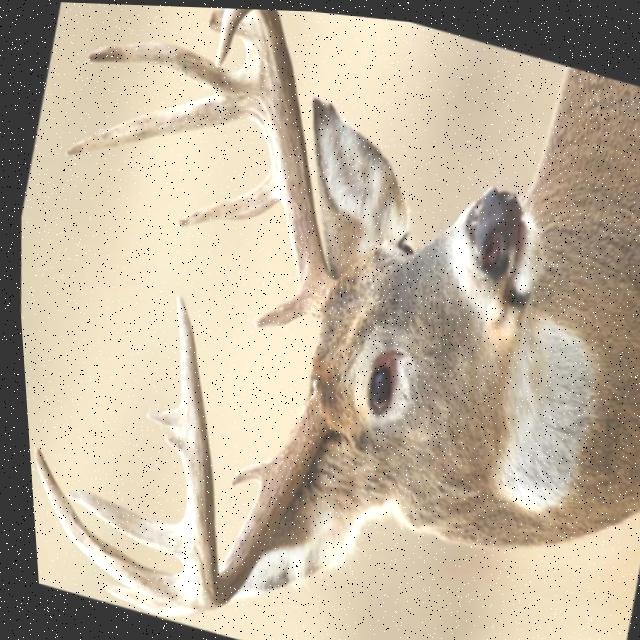E1: (158, 432, 177, 451)
E2: (139, 403, 175, 430)
L-F: (255, 7, 334, 322)
L-G1: (248, 287, 304, 326)
L-G2: (173, 165, 278, 227)
L-G3: (61, 62, 253, 155)
L-G4: (85, 40, 234, 91)
R-F: (172, 293, 326, 609)
R-G1: (223, 456, 263, 484)
R-G3: (27, 444, 187, 608)
R-G4: (60, 488, 179, 561)
